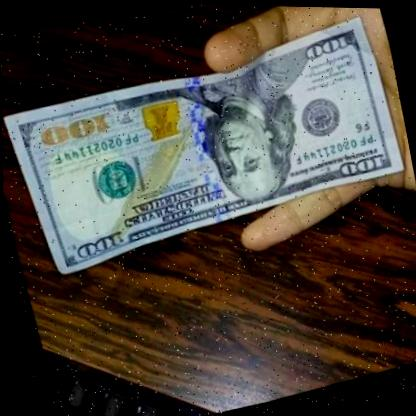one_hundred-front: (1, 8, 414, 279)
